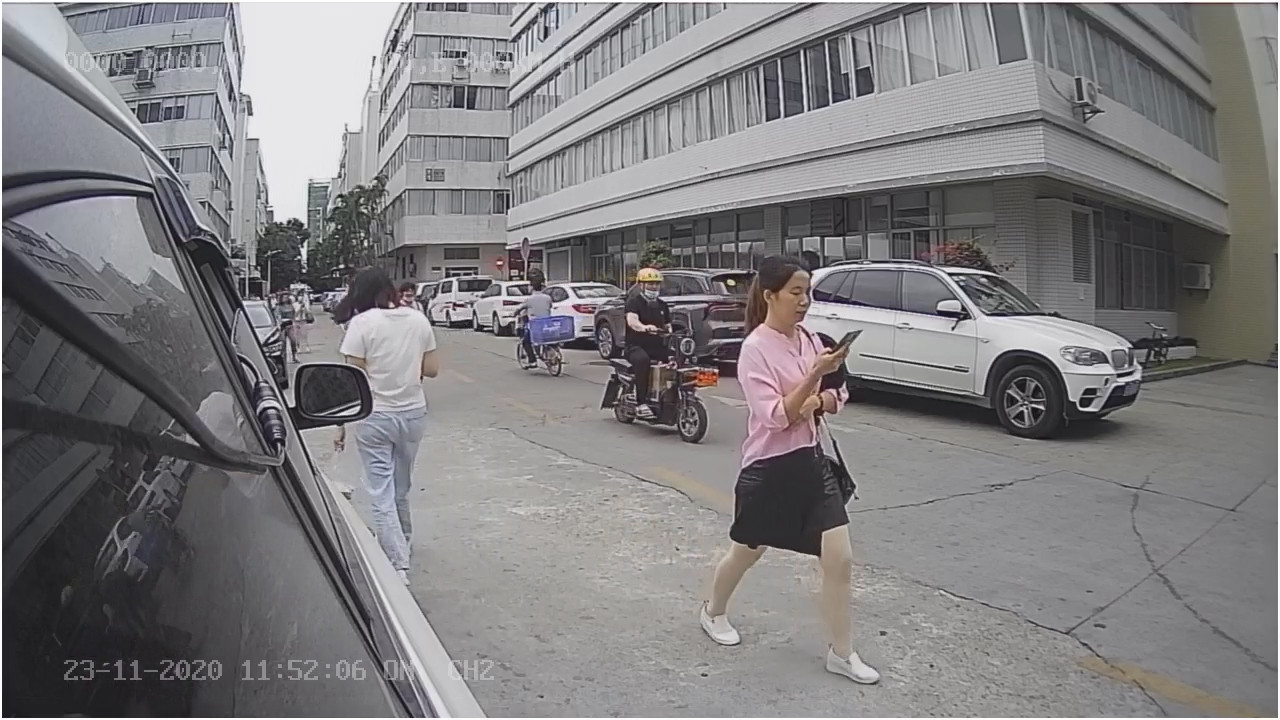person: (696, 256, 881, 681), (321, 255, 443, 372)
